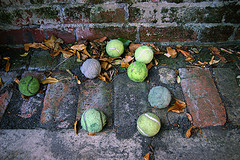tennis ball: (134, 111, 162, 138), (80, 108, 108, 134), (147, 85, 173, 109), (126, 61, 150, 83), (17, 75, 40, 97), (81, 58, 102, 78), (106, 38, 125, 59), (135, 45, 154, 64)
